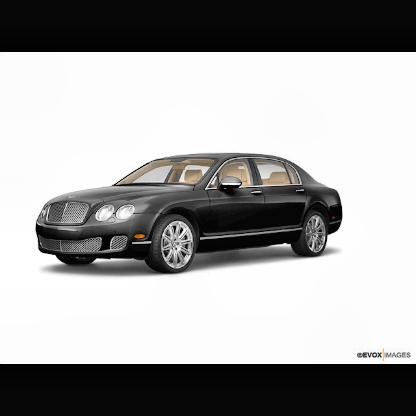Bentley Continental Flying Spur Sedan 2007: (36, 149, 344, 275)
